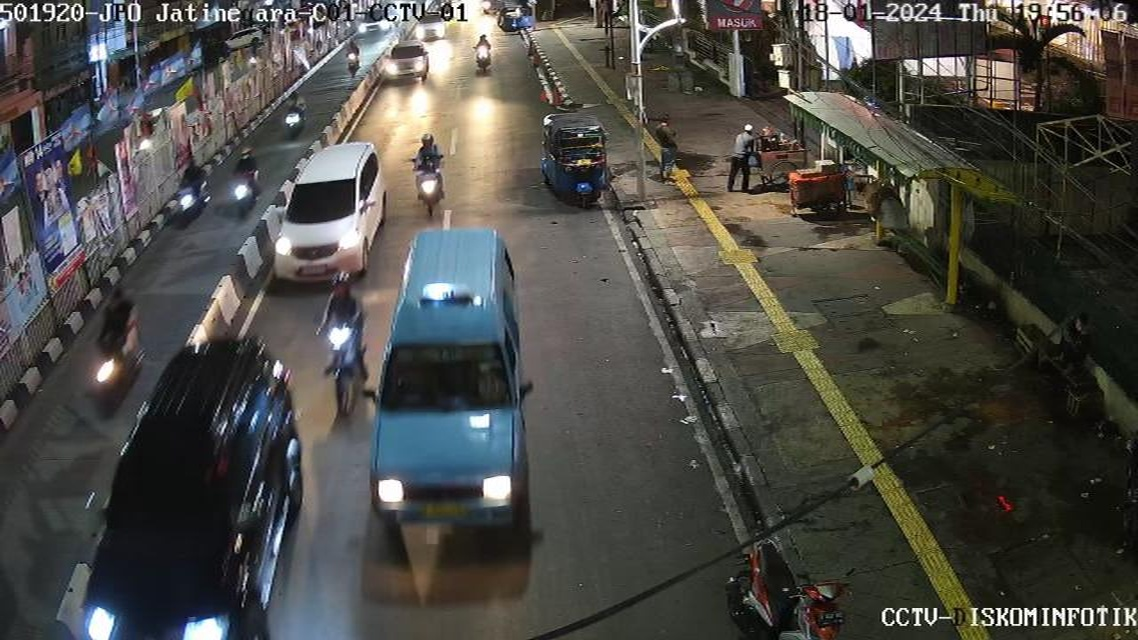Gerobak: (708, 100, 825, 190)
